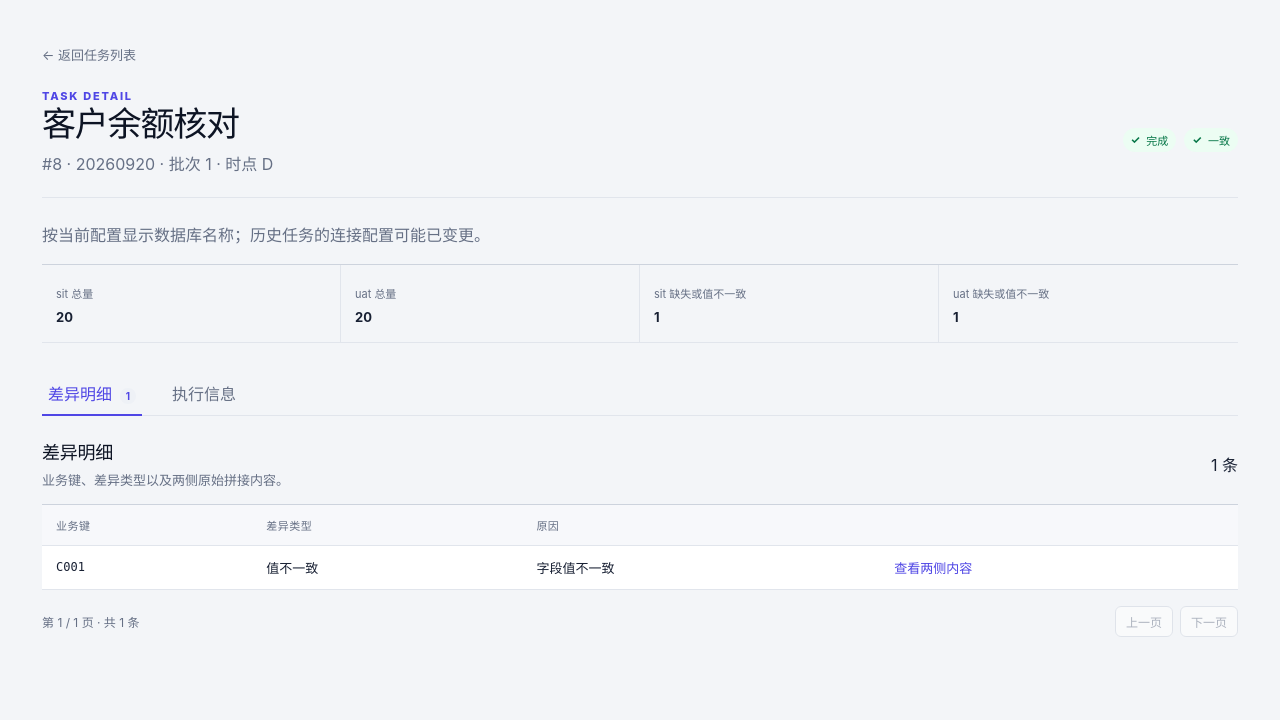
Test: separates differences from execution information
This screenshot has width=1280, height=720.
Click the tab "执行信息" at [204, 393], box [166,371,242,415]
(page scrolled)
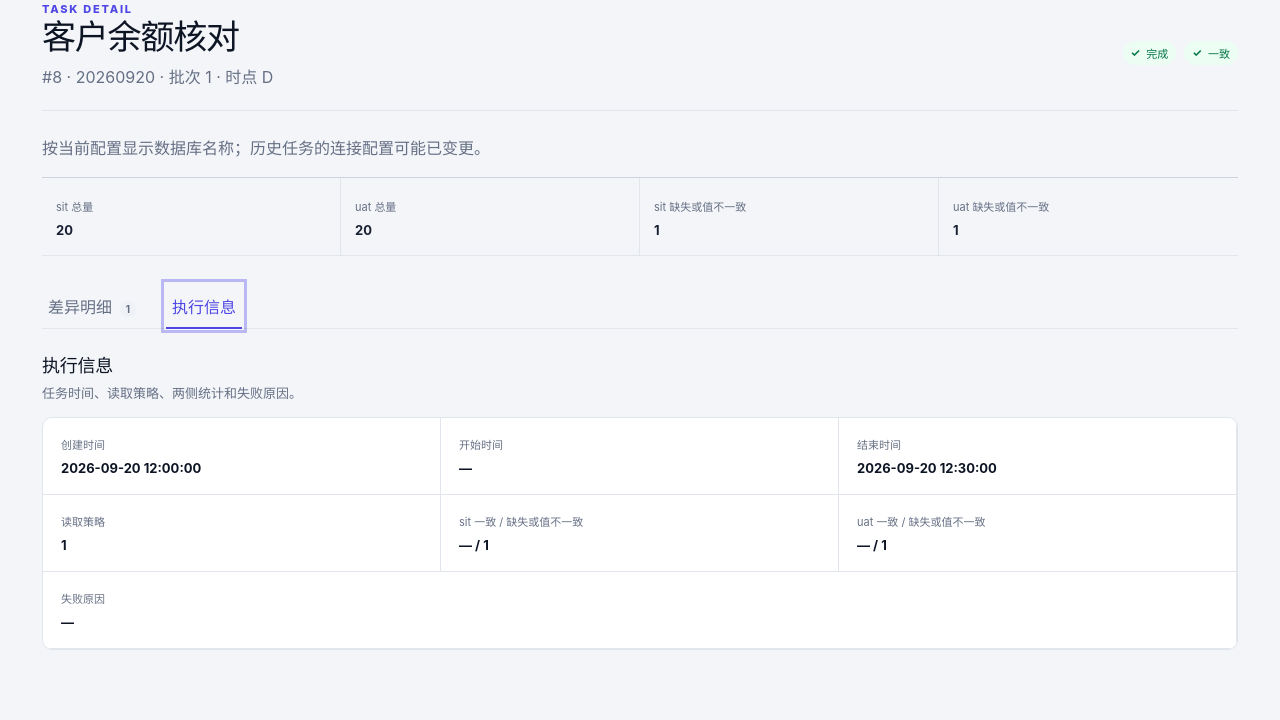
Expected: the panel shows "读取策略", [61,515,105,529]
Expected: the panel shows "开始时间", [459,438,503,452]
